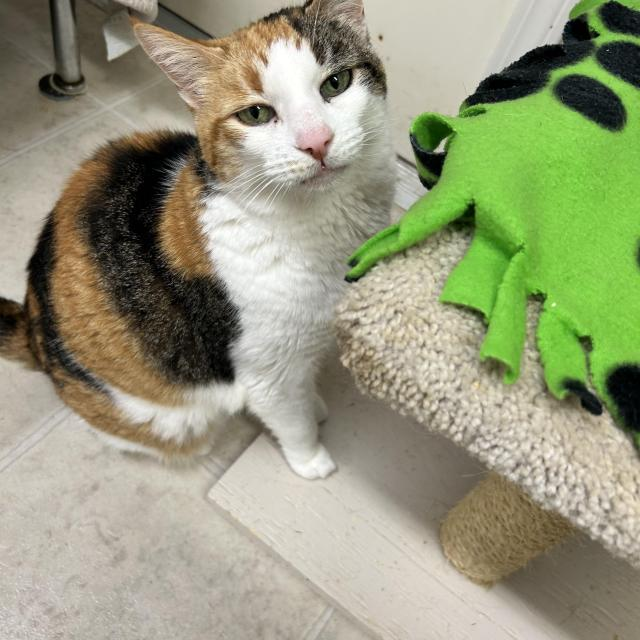calico_cat: (130, 0, 405, 238)
